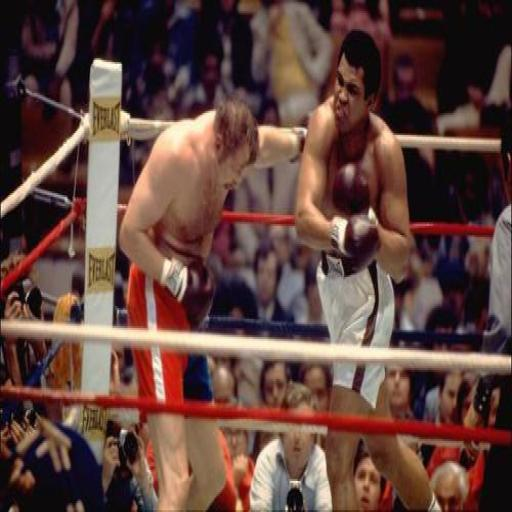boxing: (104, 69, 334, 512), (293, 28, 442, 510)
